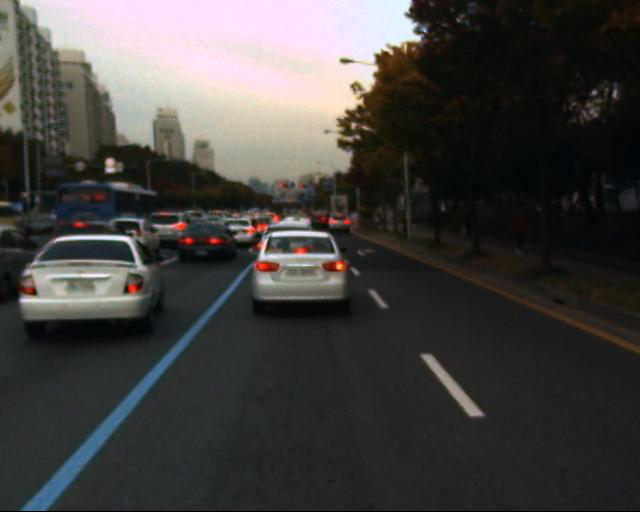person: (510, 210, 531, 260)
